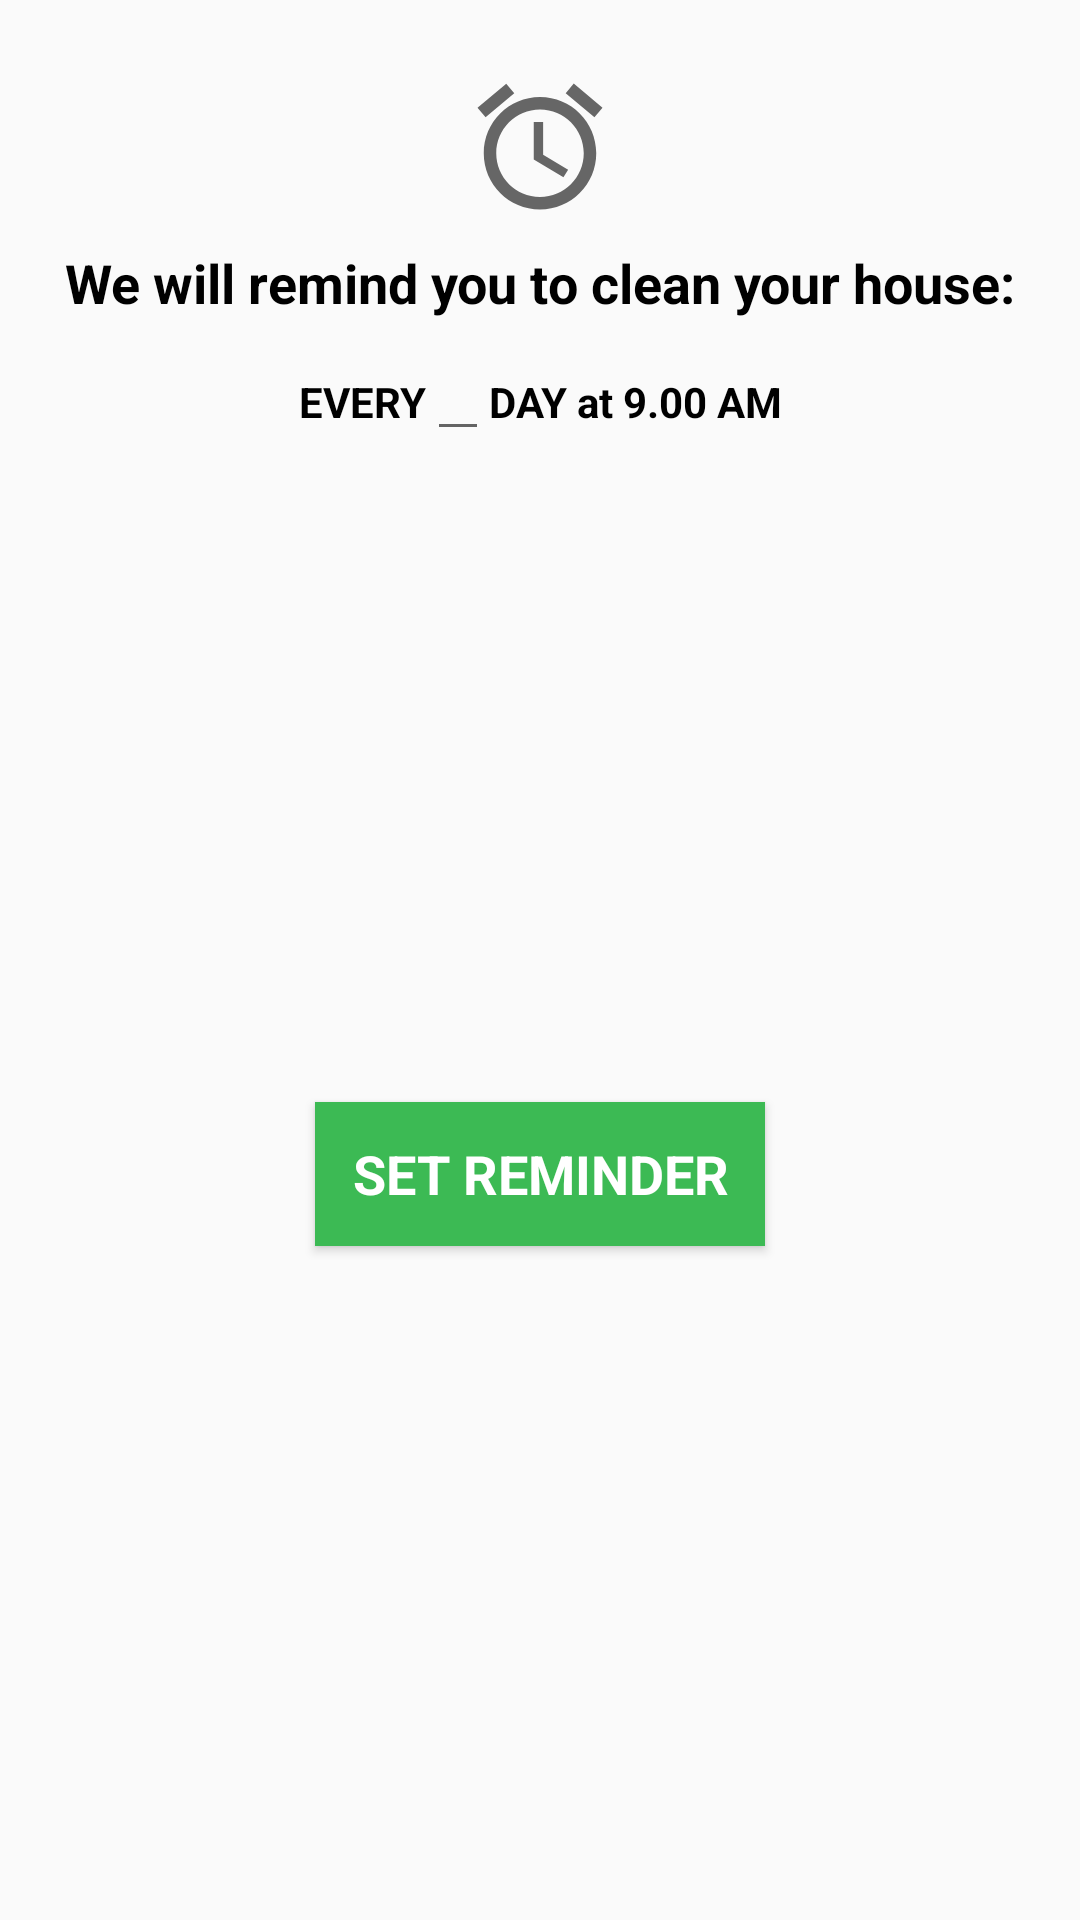

Point at icon controls on the screen. Image size 1080x1920, points as (x=x, y=y).
alarm: (x=540, y=146)
